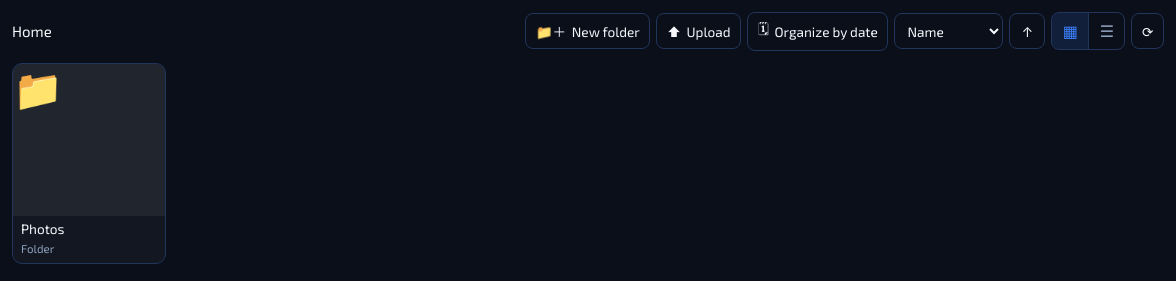
FolderBrowser (Files UI v2) › navigates into a folder and lists its children
This screenshot has width=1176, height=281.
Click the button with aria-label "Open folder Photos" at (89, 163), box [13,64,165,263]
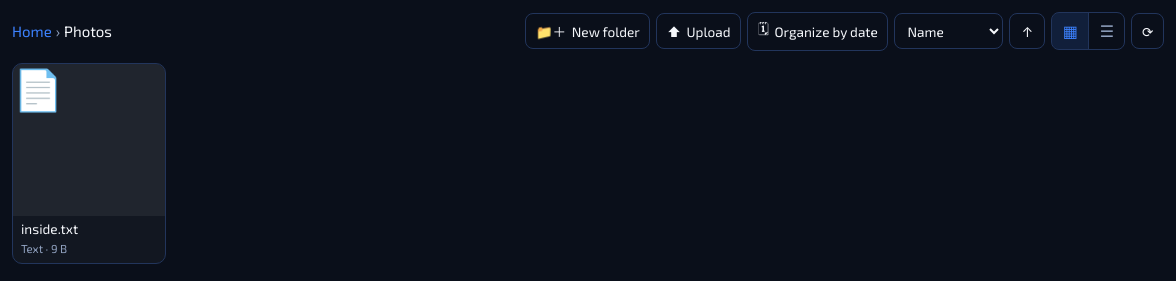
Expected: the button "Home" is shown, [12,22,52,40]
Expected: the button with aria-label "Open inside.txt" is shown, [13,64,165,263]
